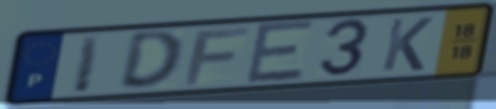3: (314, 16, 372, 81)
D: (115, 28, 186, 92)
E: (243, 19, 318, 87)
F: (180, 25, 253, 88)
I: (70, 32, 105, 96)
K: (378, 15, 436, 73)
